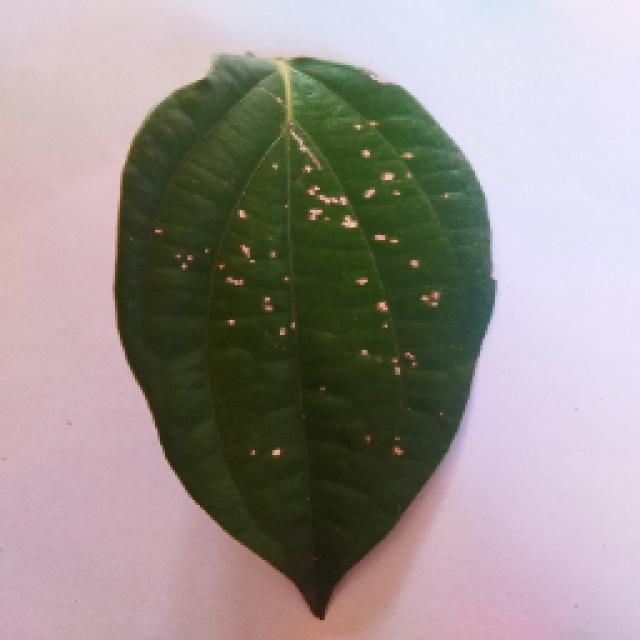pollu-disease: (110, 50, 492, 618)
